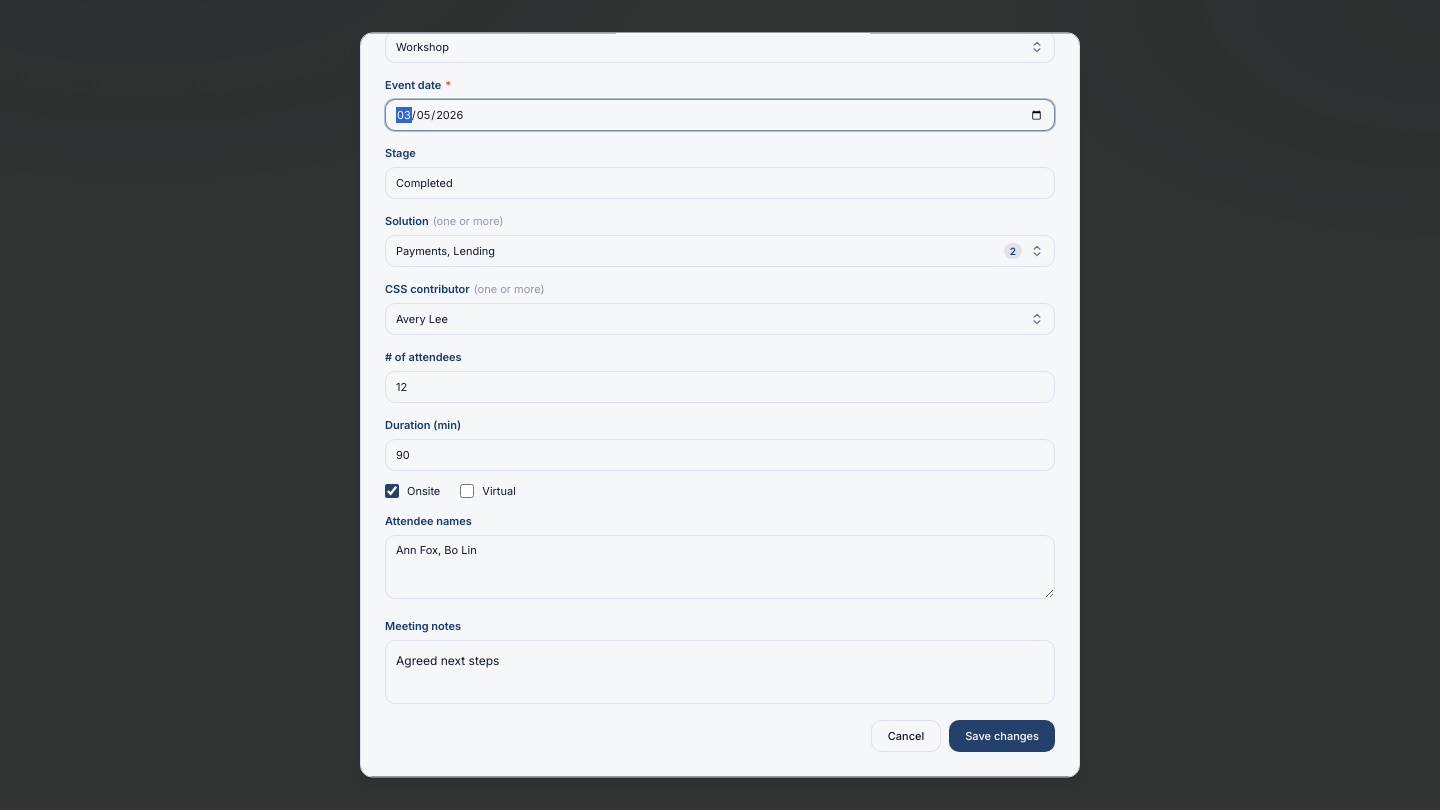
Test case: EventForm, edit › EVF-EDIT-002 Save changes posts the full event with its Id, toasts Event updated, closes and refreshes the events
The image size is (1440, 810).
(page scrolled)
Expected: the dialog "Edit event" is shown, [360, 32, 1080, 778]
Expected: the button "Workshop" is shown, [385, 32, 1055, 63]
Click the button "Save changes". click: x=1002, y=736
box: [949, 720, 1055, 752]
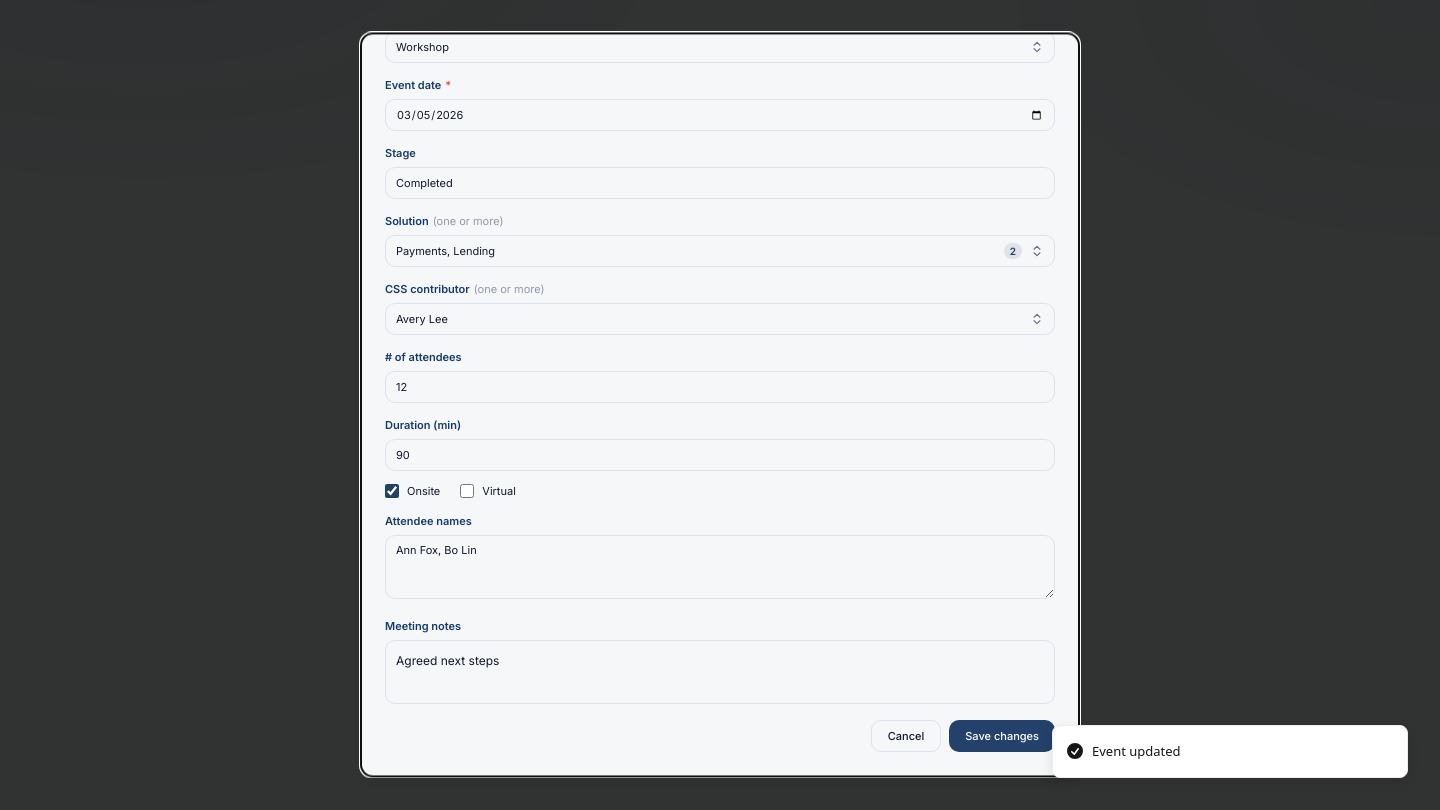
Now the text "Event updated" is shown, box [1092, 742, 1181, 761]
